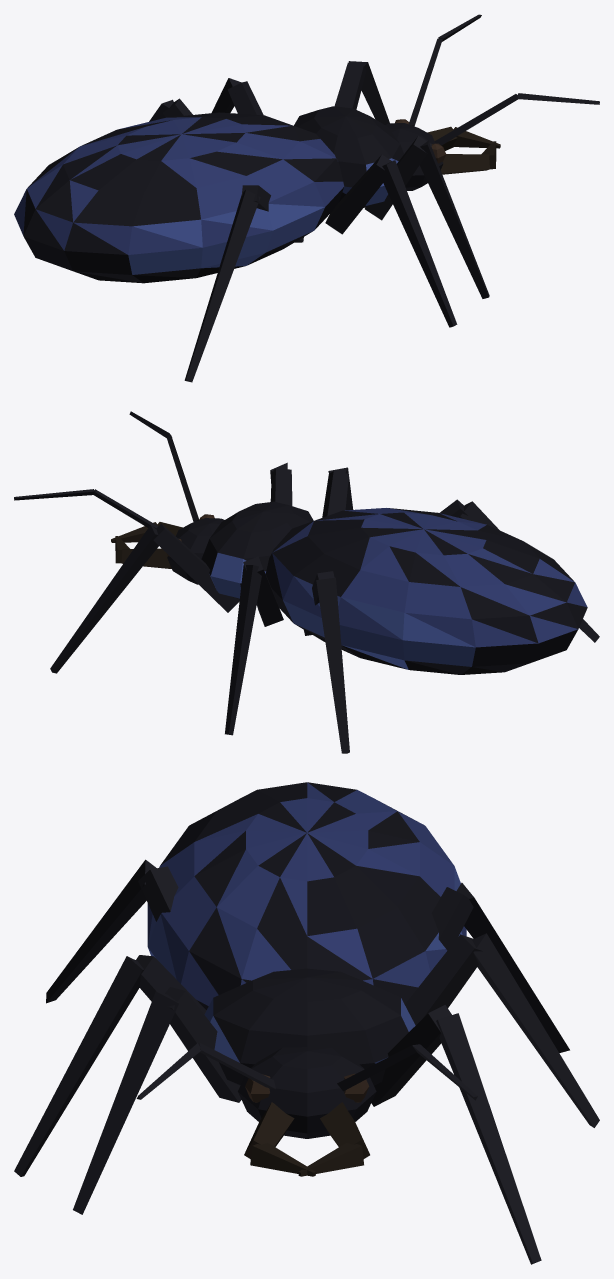
Rendered from bosses-the-ground-beetle.glb.
3 views of the same model, one above another, from view 1: azimuth 30°, elevation 25°; view 2: azimuth 150°, elevation 25°; view 3: azimuth 270°, elevation 25° (orthographic). The views are drawn at different scales.
Bounding box in the file's own units: 17.03 × 5.08 × 11.82.
